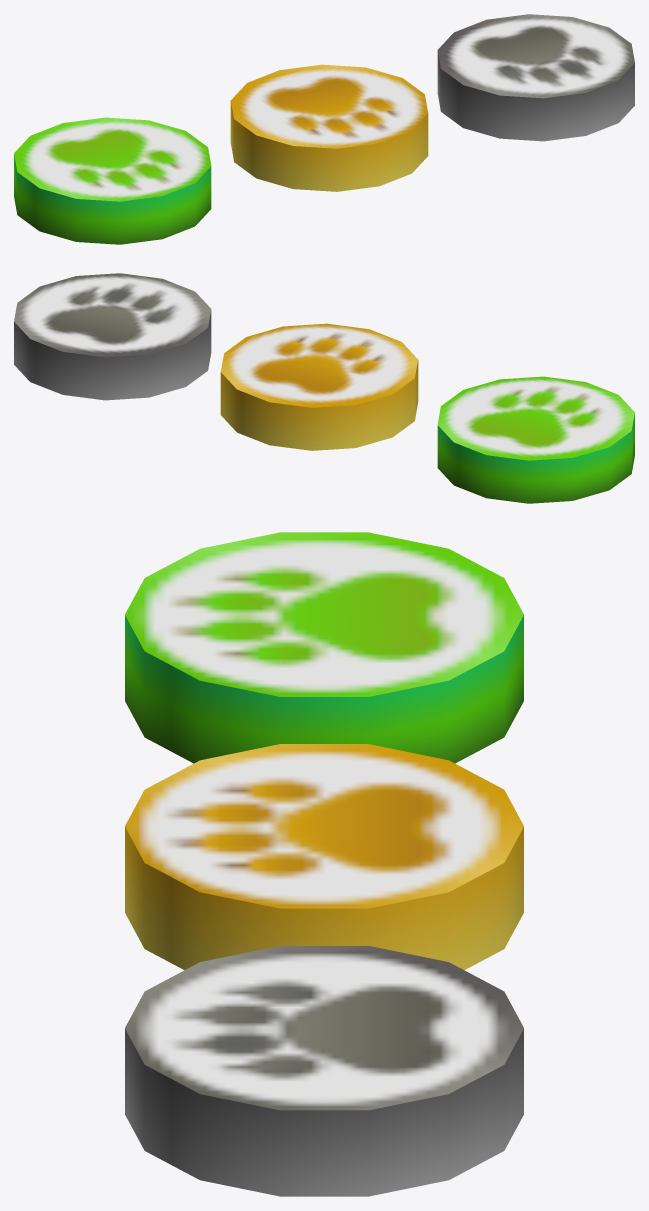
File: Level_Circles.fbx
3 views of the same model, one above another, from view 1: azimuth 30°, elevation 25°; view 2: azimuth 150°, elevation 25°; view 3: azimuth 270°, elevation 25° (orthographic). The views are drawn at different scales.
Visible parts, largest first — view 1: Cylinder, Cylinder.002, Cylinder.001; view 2: Cylinder, Cylinder.002, Cylinder.001; view 3: Cylinder.002, Cylinder.001, Cylinder.
Boxes of the visible parts, x1=… form: Cylinder: x1=230, y1=64, x2=428, y2=191; Cylinder.002: x1=437, y1=14, x2=634, y2=141; Cylinder.001: x1=14, y1=117, x2=211, y2=244; Cylinder: x1=220, y1=323, x2=418, y2=450; Cylinder.002: x1=14, y1=273, x2=211, y2=400; Cylinder.001: x1=437, y1=376, x2=634, y2=503; Cylinder.002: x1=125, y1=946, x2=523, y2=1196; Cylinder.001: x1=125, y1=532, x2=523, y2=763; Cylinder: x1=125, y1=744, x2=523, y2=970.
Bounding box in the file's own units: 469 × 32.59 × 137.
